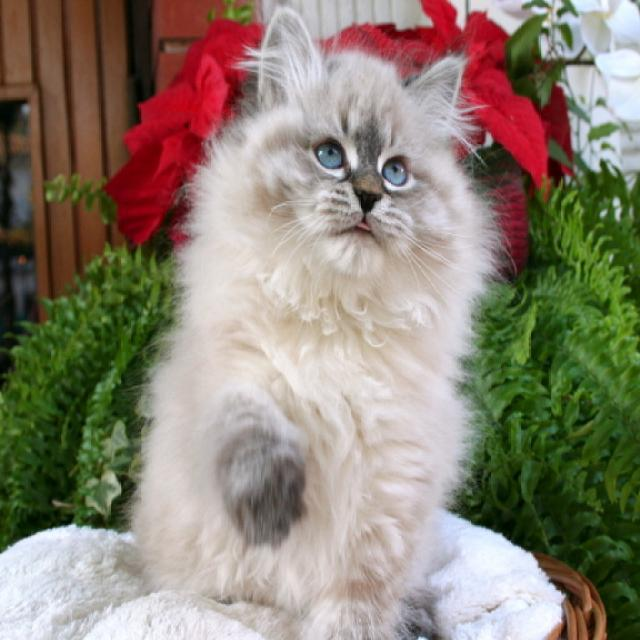Neva Masquerade: (128, 1, 496, 640)
